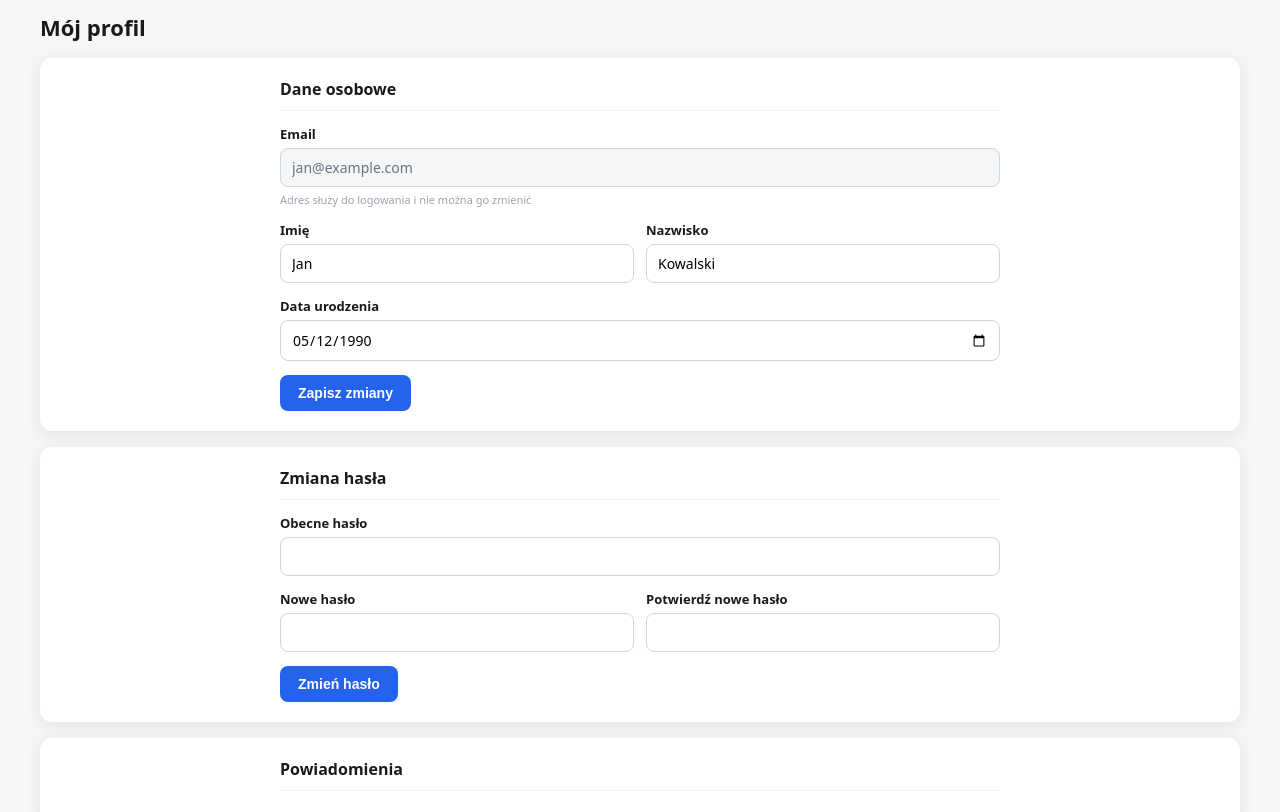
Test case: ProfilePage › wymaga zgodnych nowych haseł
Type "stare123" into the password field labelled "Obecne hasło" at (640, 556), box [280,537,1000,576]
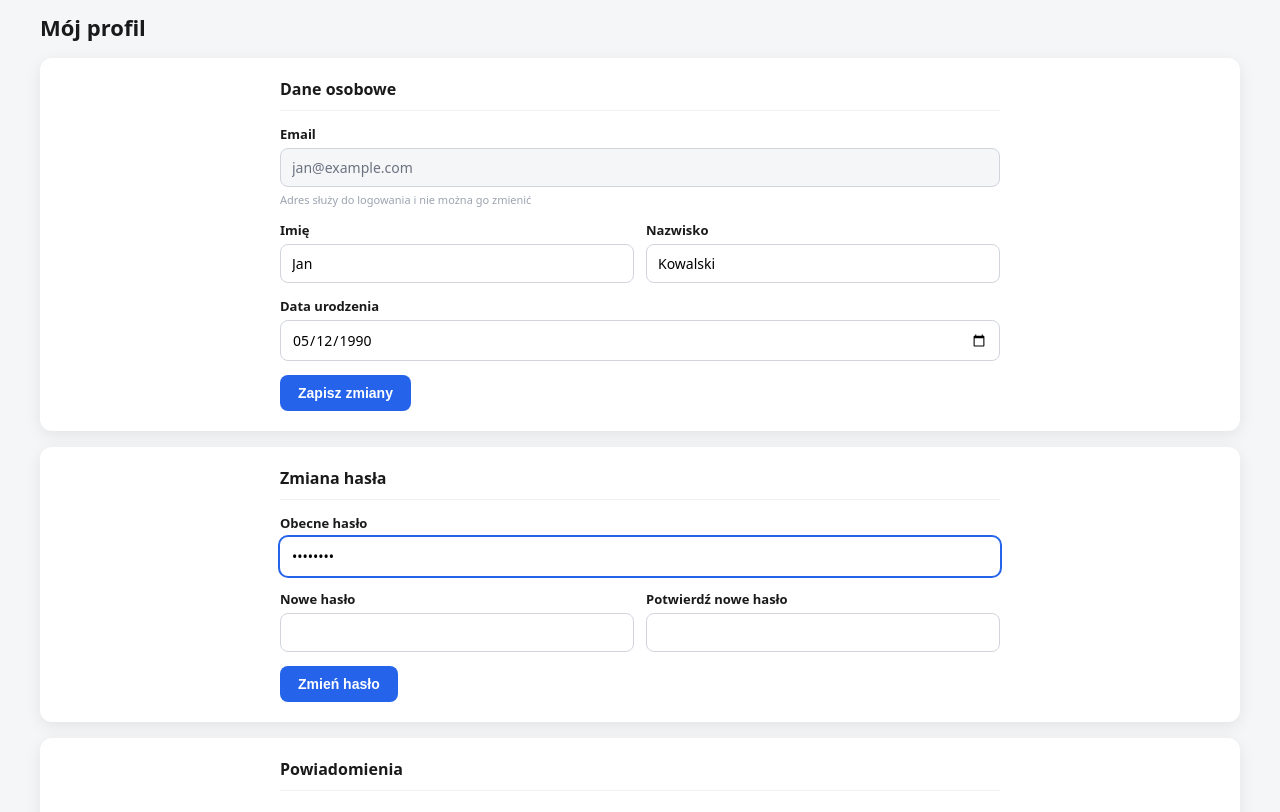
Type "nowe12345" into the password field labelled "Nowe hasło" at (457, 632), box [280,613,634,652]
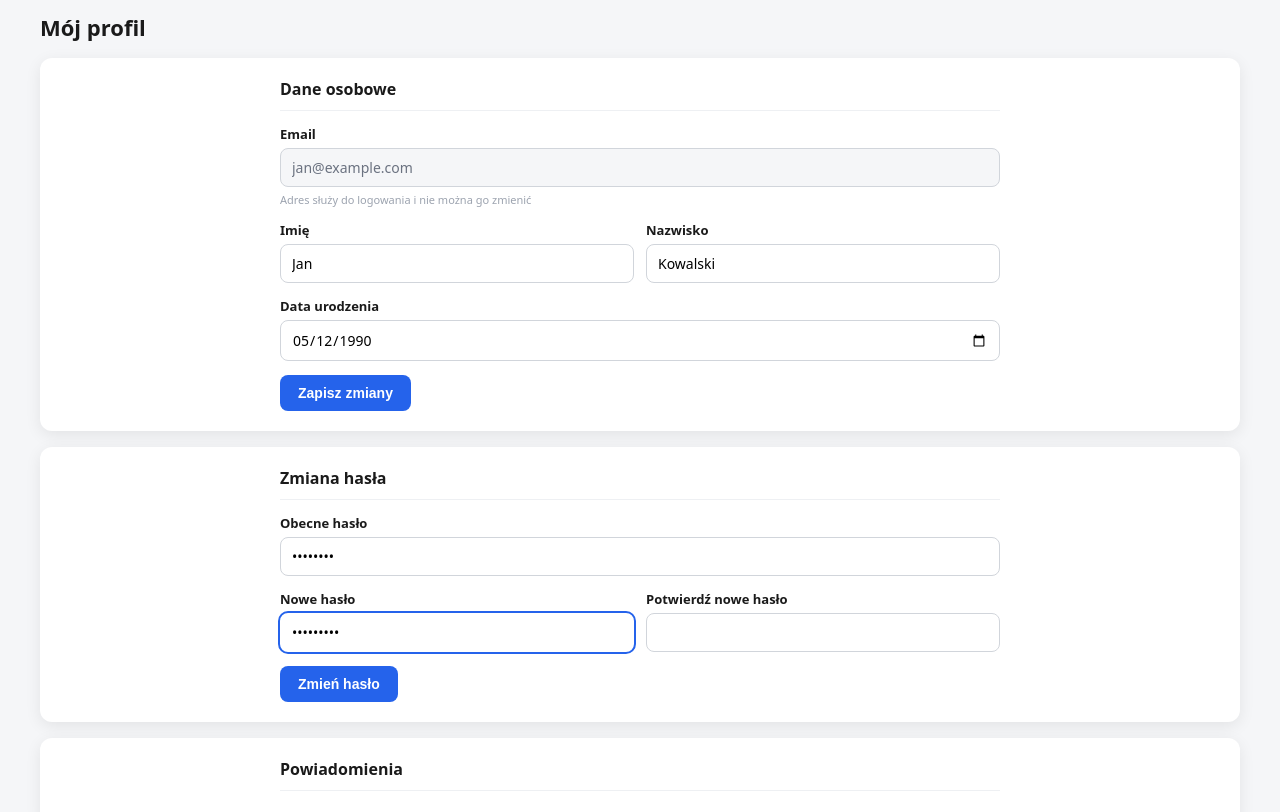
Type "inne12345" into the password field labelled "Potwierdź nowe hasło" at (823, 632), box [646,613,1000,652]
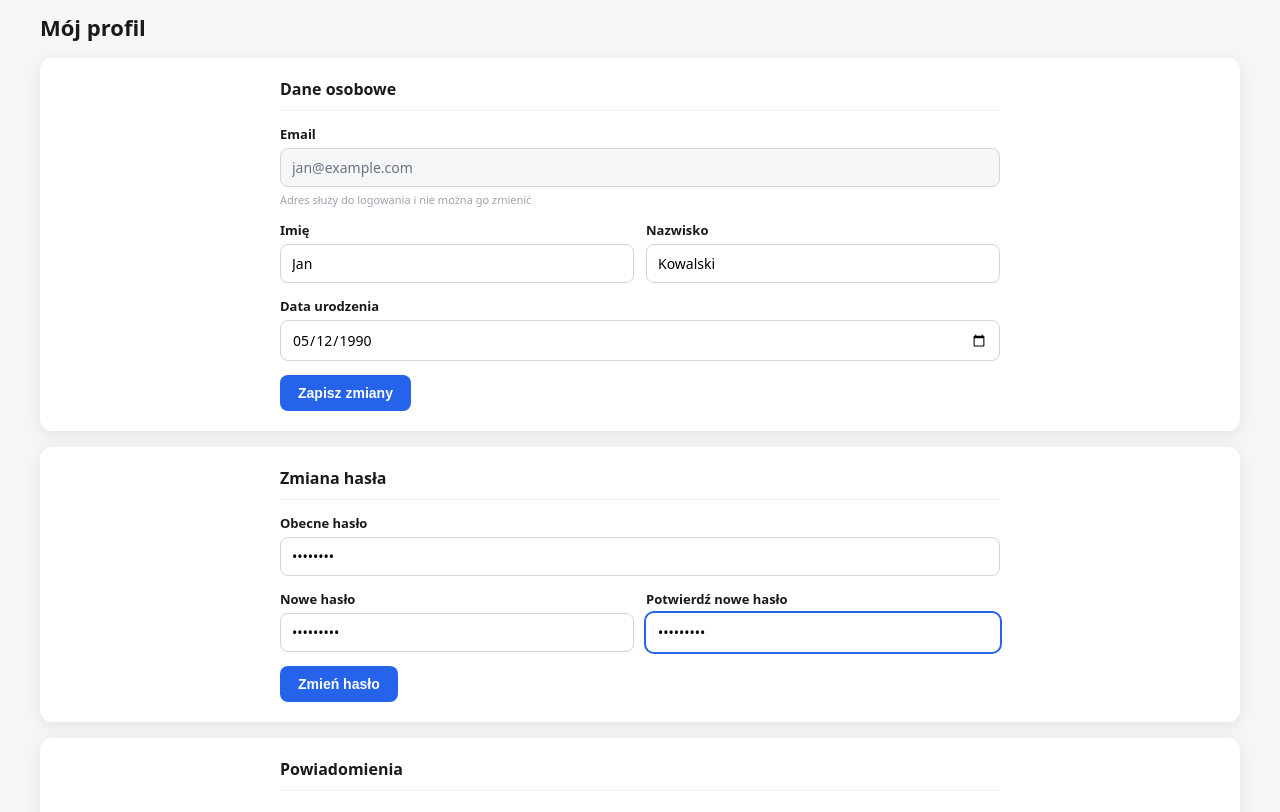
Click the button "Zmień hasło" at (339, 684), box [280,666,398,702]
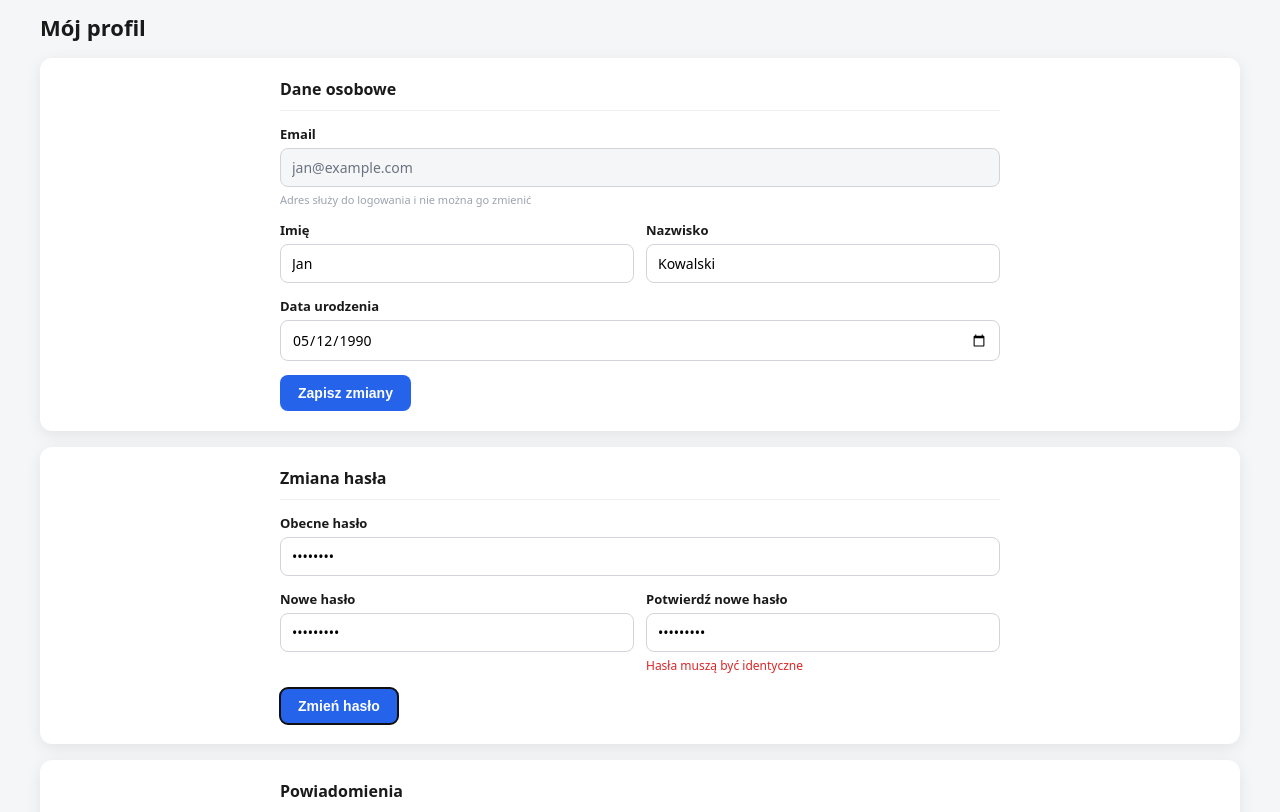
Check: the text "Hasła muszą być identyczne" is shown, box [646,657,803,674]
